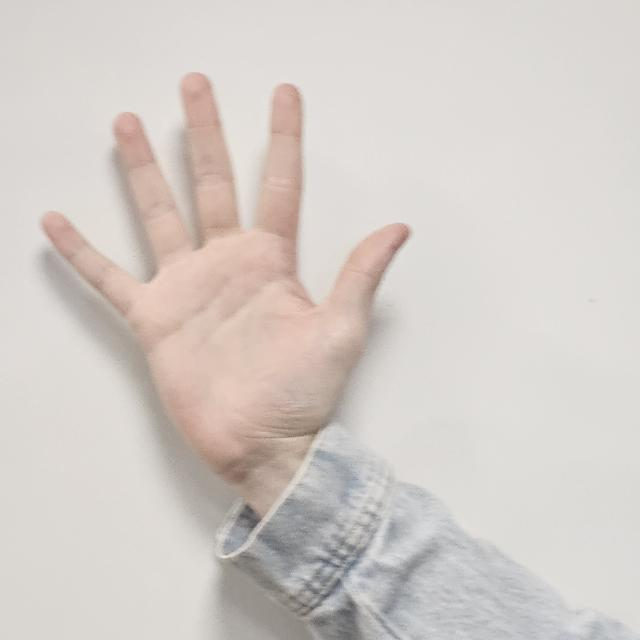X: (36, 71, 412, 516)
